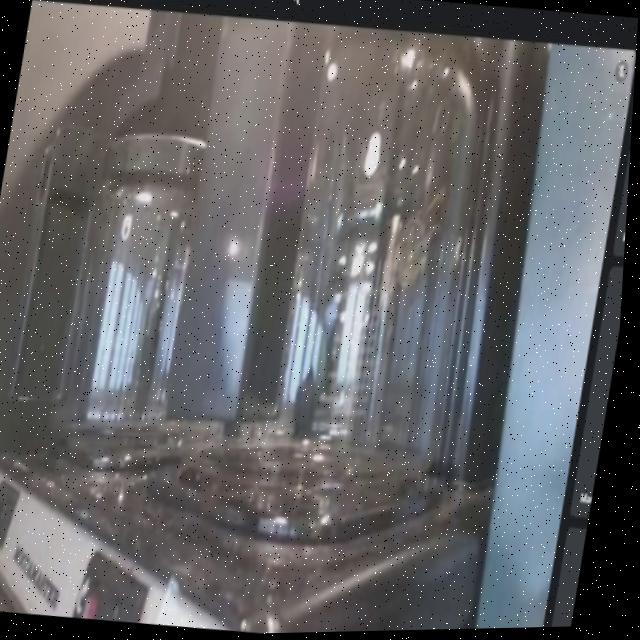nocoffee: (149, 2, 530, 566), (14, 107, 274, 516)
